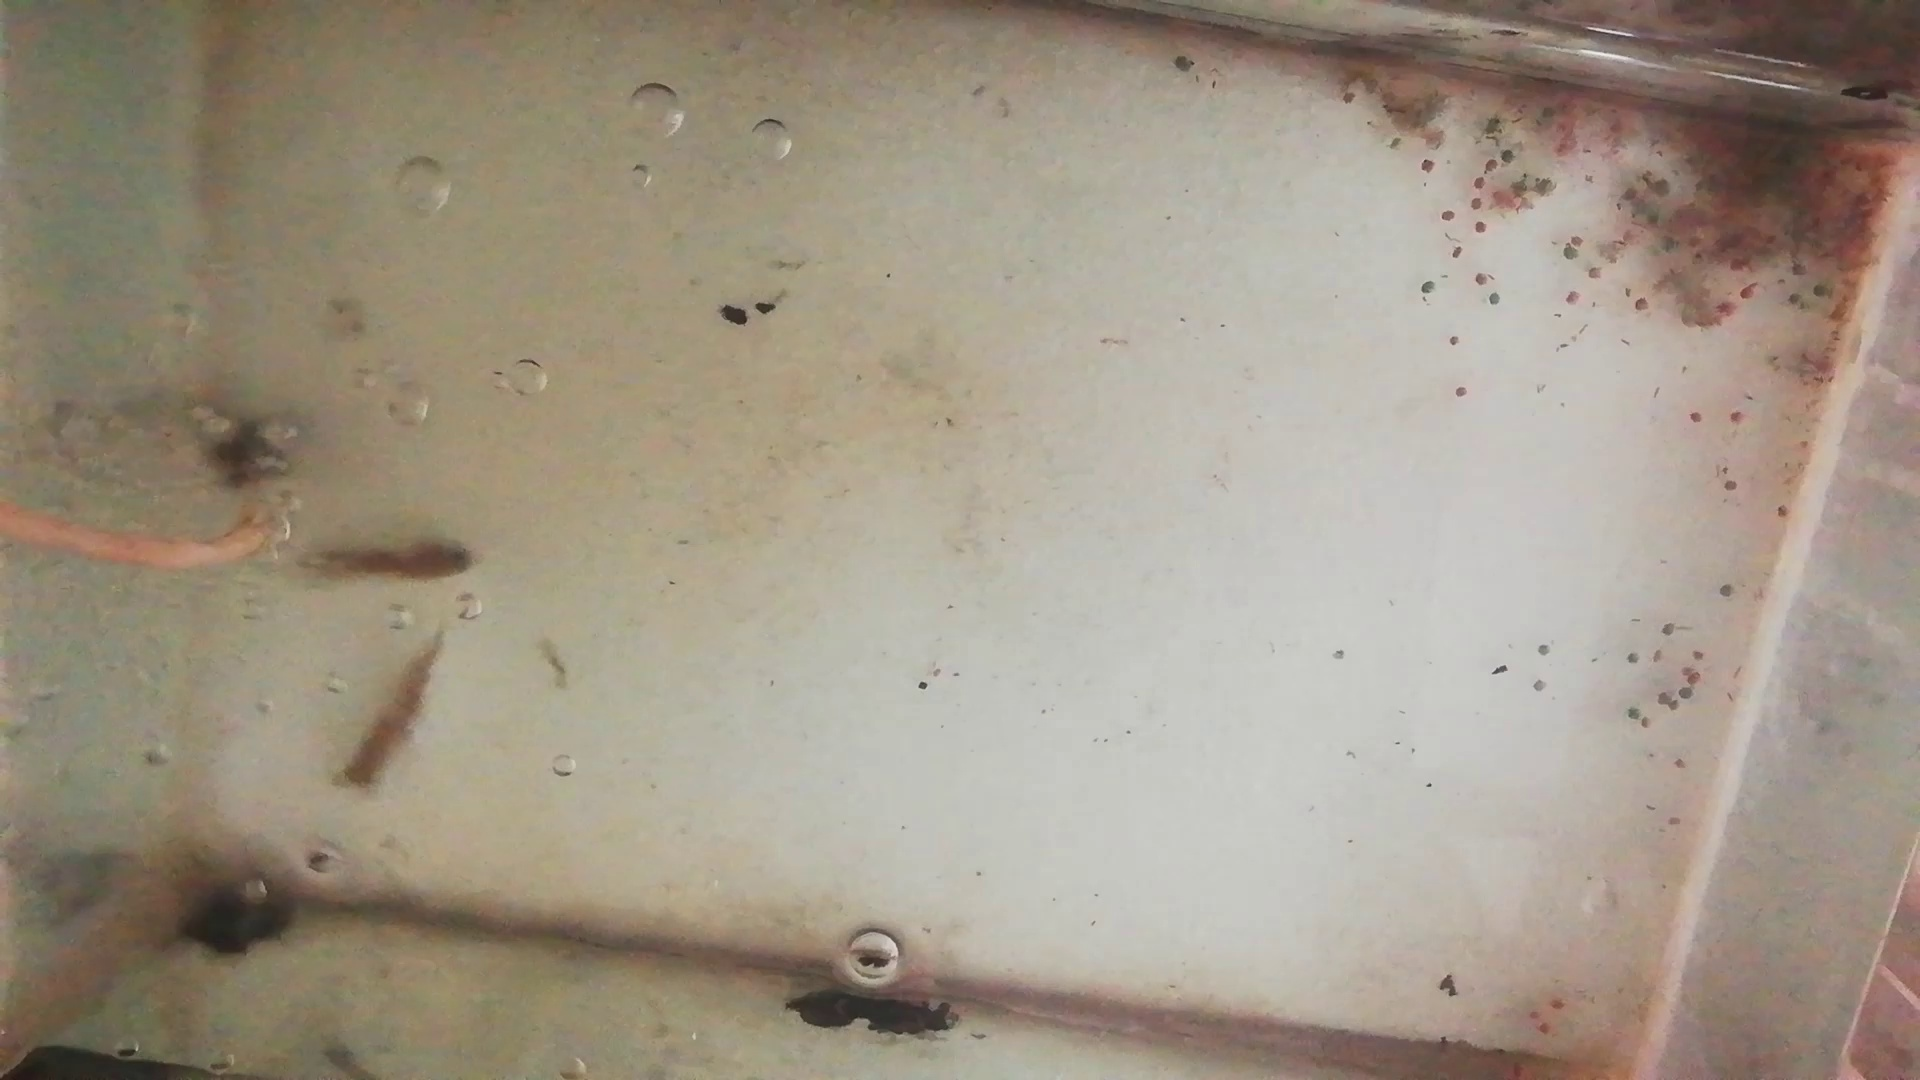fish: (338, 628, 440, 800), (291, 539, 483, 585)
